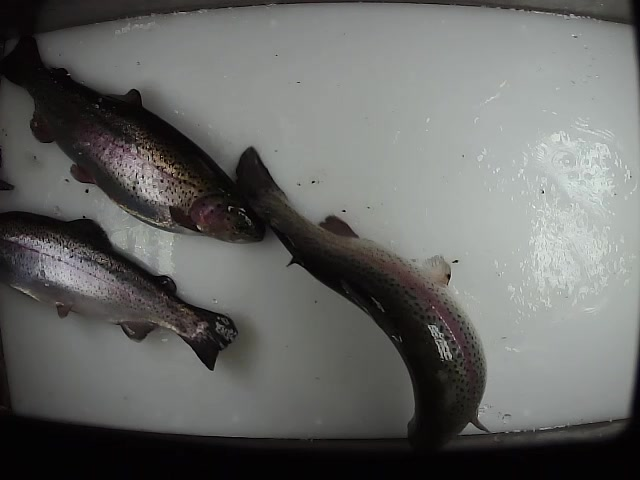Fish: (234, 146, 491, 452), (1, 35, 265, 244)
